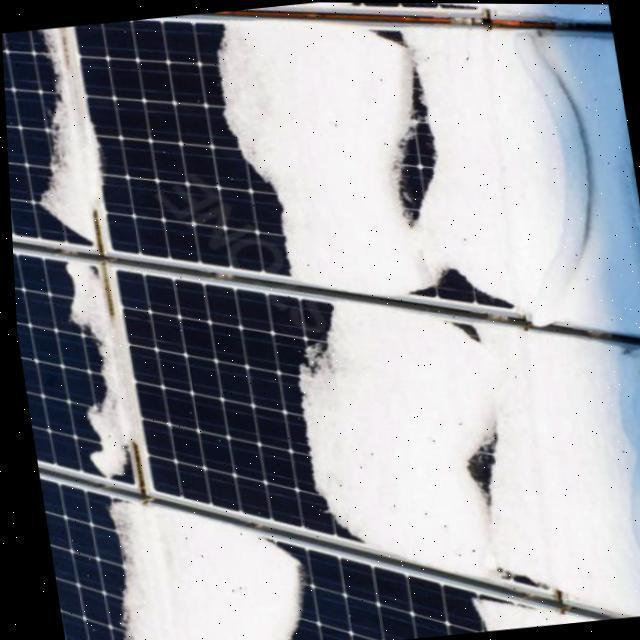Anomaly Solar Panel: (1, 2, 640, 640)
Snow: (206, 22, 640, 333), (264, 293, 640, 614), (97, 492, 303, 640), (60, 260, 138, 479), (35, 25, 102, 243), (458, 596, 596, 632)
